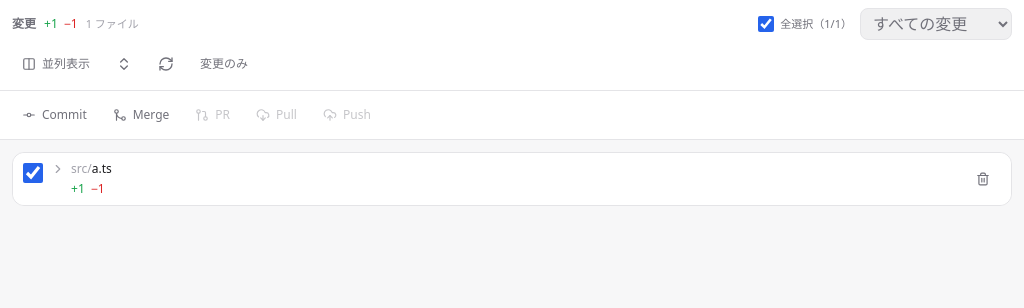
Test case: DiffPane 全選択 › 変更のみ表示でコンテキスト行が隠れ、変更行は残る
This screenshot has width=1024, height=308.
Expected: the text "a.ts" is shown, x1=92 y1=161 x2=112 y2=177
What coordinates should you click on to do the following:
click the button with aria-label "src/a.ts の差分を展開"
I would click on:
 (58, 169)
Its box is x1=51 y1=161 x2=957 y2=177.
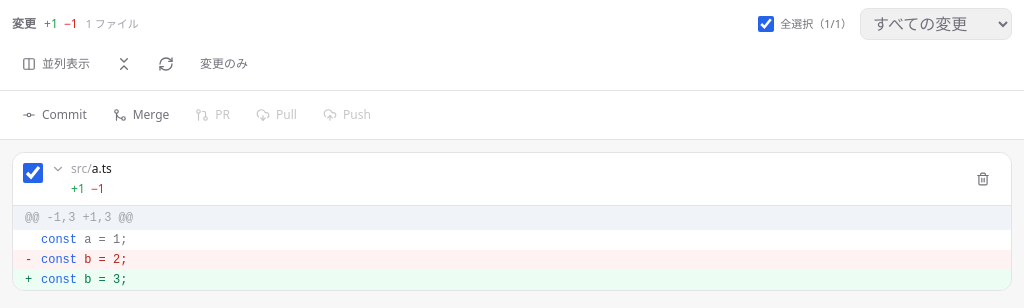
Result: the element with class "overflow-x-auto" shows "const a = 1;" at x1=13 y1=205 x2=1011 y2=290
What coordinates should you click on to do the following:
click the button with aria-label "コンテキスト行を隠して変更行のみ表示"
I would click on:
 (224, 64)
Its box is x1=190 y1=48 x2=258 y2=80.
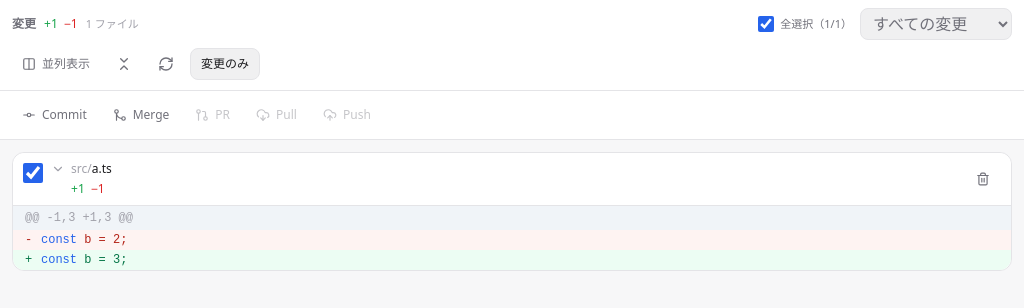
Result: the element with class "overflow-x-auto" shows "const b = 3;" at x1=13 y1=205 x2=1011 y2=270
Result: the element with class "overflow-x-auto" no longer shows "const a = 1;"
